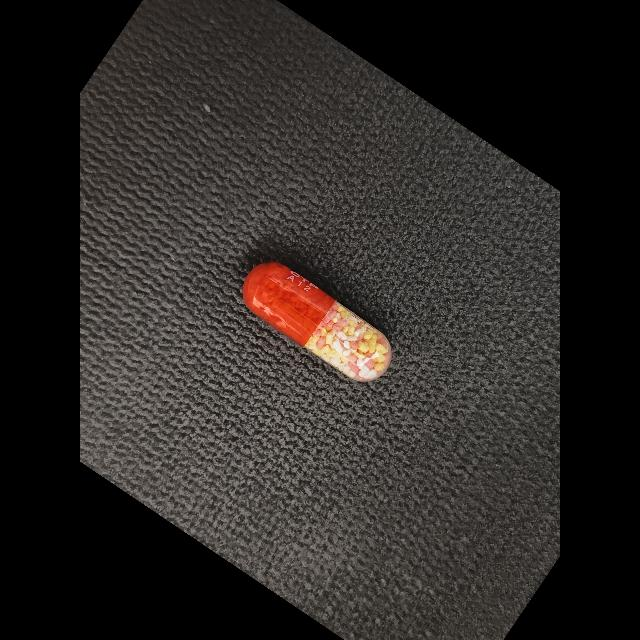Intact Capsule: (243, 262, 392, 382)
